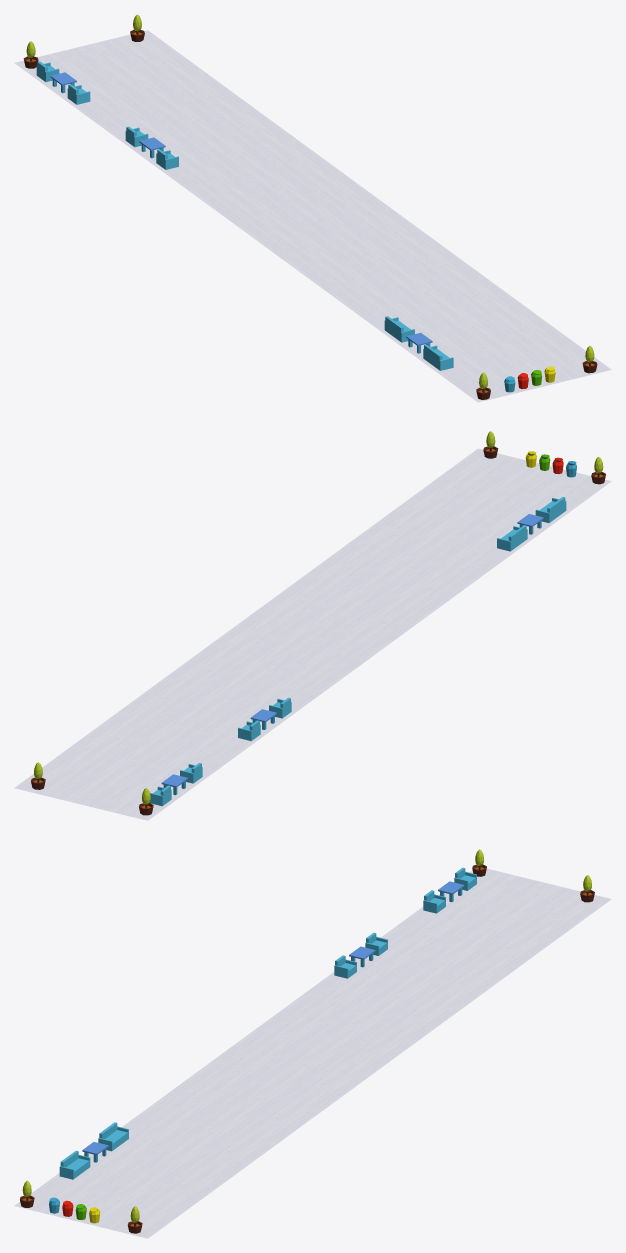
File: 2_Hall.fbx
3 renders of one model, top to bottom at view 1: azimuth 30°, elevation 25°; view 2: azimuth 150°, elevation 25°; view 3: azimuth 330°, elevation 25°, orthographic.
Visible parts, largest first — view 1: 0_InnerGround.001, 0_Recycle.004, 0_Couch.003; view 2: 0_InnerGround.001, 0_Recycle.004, 0_Couch.002; view 3: 0_InnerGround.001, 0_Recycle.004, 0_Couch.003, 0_Couch.002.
Boxes of the visible parts, <box> form: 0_InnerGround.001: <box>14,30,611,402</box>; 0_Recycle.004: <box>504,366,555,392</box>; 0_Couch.003: <box>423,344,453,370</box>; 0_InnerGround.001: <box>14,448,611,820</box>; 0_Recycle.004: <box>525,451,576,477</box>; 0_Couch.002: <box>497,525,527,551</box>; 0_InnerGround.001: <box>14,868,611,1238</box>; 0_Recycle.004: <box>49,1197,100,1223</box>; 0_Couch.003: <box>59,1150,90,1179</box>; 0_Couch.002: <box>98,1122,128,1151</box>.
Bounding box in the file's own units: 6000 × 1000 × 179.
